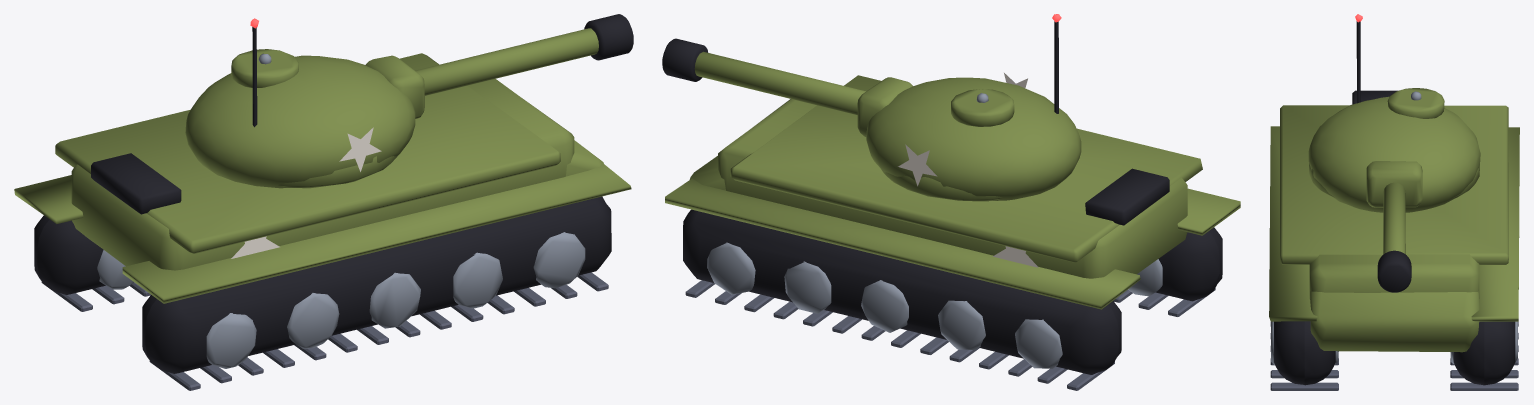
File: tank.glb
The picture shows the model from 3 angles, left to right: view 1: azimuth 30°, elevation 25°; view 2: azimuth 150°, elevation 25°; view 3: azimuth 270°, elevation 25°; orthographic projection. The views are drawn at different scales.
Visible parts, largest first — view 1: tank.022, turret.008, barrel.015; view 2: tank.022, turret.008, barrel.015; view 3: tank.022, turret.008, barrel.015.
Boxes of the visible parts, x1=… form: tank.022: x1=14, y1=53, x2=631, y2=390; turret.008: x1=185, y1=18, x2=424, y2=188; barrel.015: x1=415, y1=14, x2=633, y2=95; tank.022: x1=665, y1=75, x2=1240, y2=390; turret.008: x1=857, y1=14, x2=1081, y2=201; barrel.015: x1=662, y1=38, x2=865, y2=114; tank.022: x1=1269, y1=90, x2=1519, y2=390; turret.008: x1=1308, y1=14, x2=1480, y2=212; barrel.015: x1=1377, y1=182, x2=1411, y2=292.
Size of the model in its own units: 7.17 by 3.9 by 3.49.
1 material, 1 textured.
